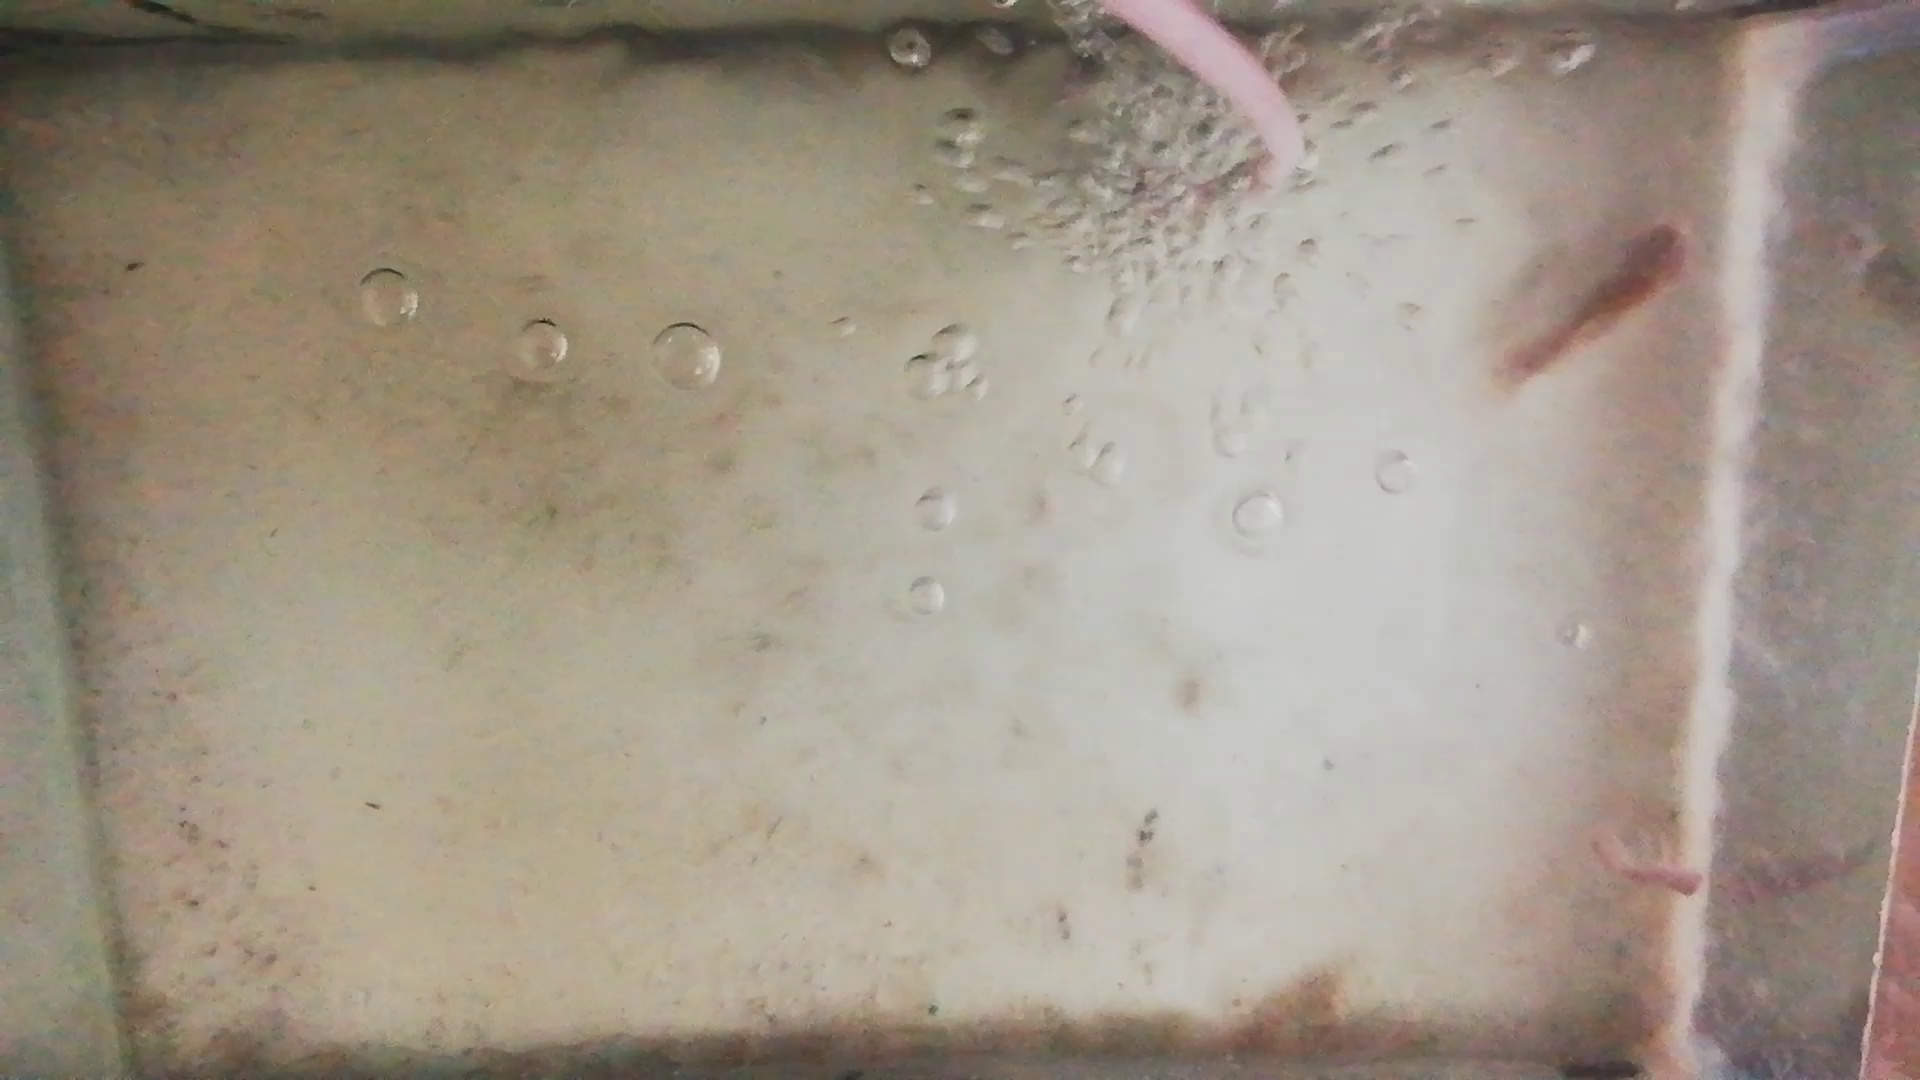fish: (1503, 222, 1696, 382), (1592, 828, 1710, 895)
